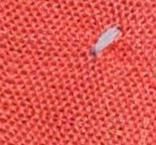hole: (88, 21, 125, 60)
